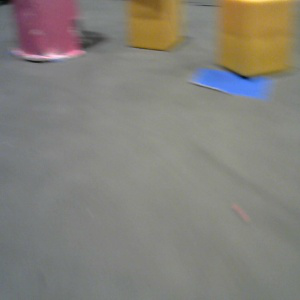middle: (10, 1, 86, 61)
